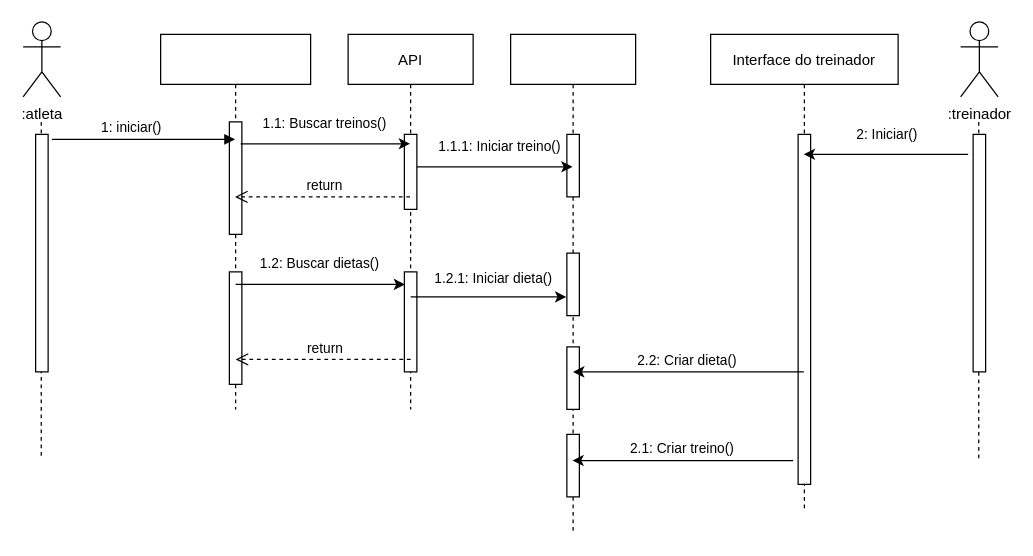
Some shapes in this 1033 by 556 pixel diagram are drawn without their labels. The shapes that lost their labels are listed below. From the top down, each one's centre as x and y in pixels, then its label:
At (235,221): "Interface do usuário".
At (572,283): "Interface de rotina".
